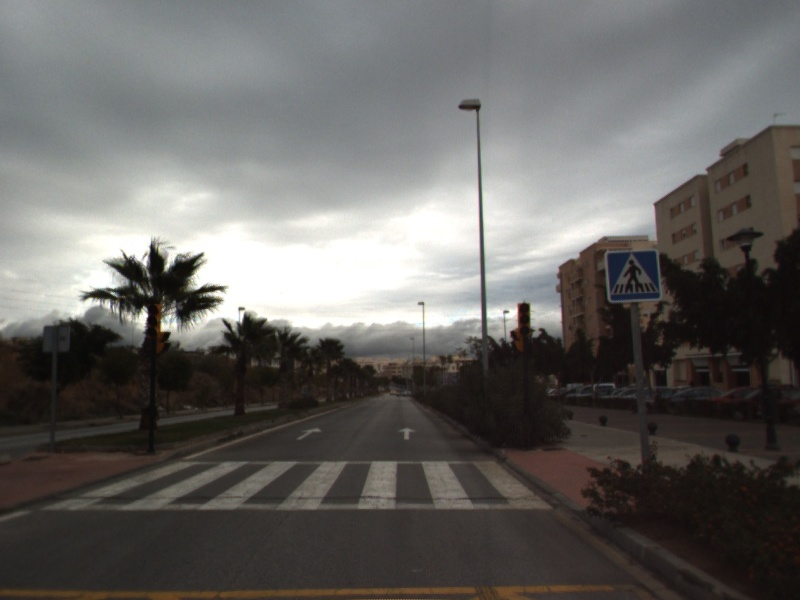STRAIGHT: (294, 425, 324, 441), (396, 425, 418, 442)
